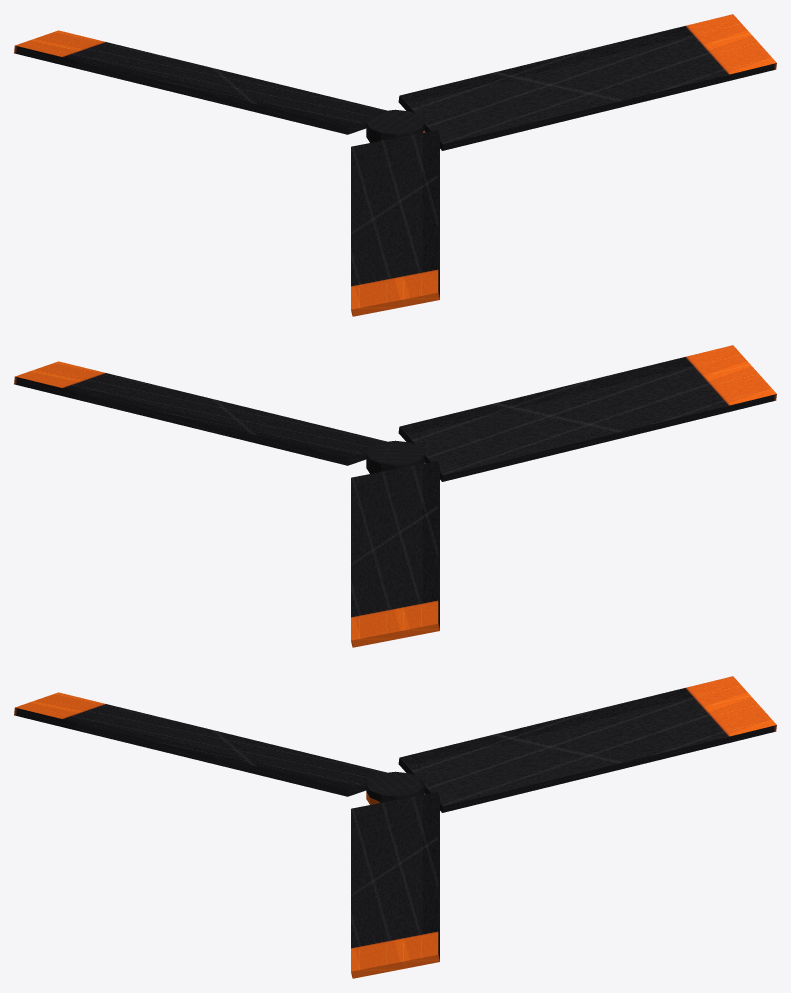
Rendered from drone_fpv_prop.fbx.
3 views of the same model, one above another, from view 1: azimuth 30°, elevation 25°; view 2: azimuth 150°, elevation 25°; view 3: azimuth 270°, elevation 25° (orthographic).
Parts seen in each view (by area): view 1: Propeller.001; view 2: Propeller.001; view 3: Propeller.001.
Part boxes in pixels (x1,y1,x2,y2): Propeller.001: (14,14,776,316); Propeller.001: (14,345,776,647); Propeller.001: (14,676,776,978).
Size of the model in its own units: 10.32 by 11.91 by 0.4147.
